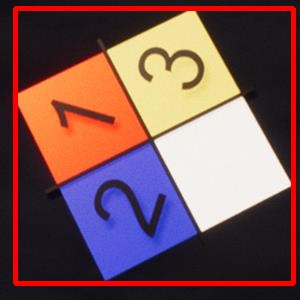nfpa: (15, 8, 293, 283)
